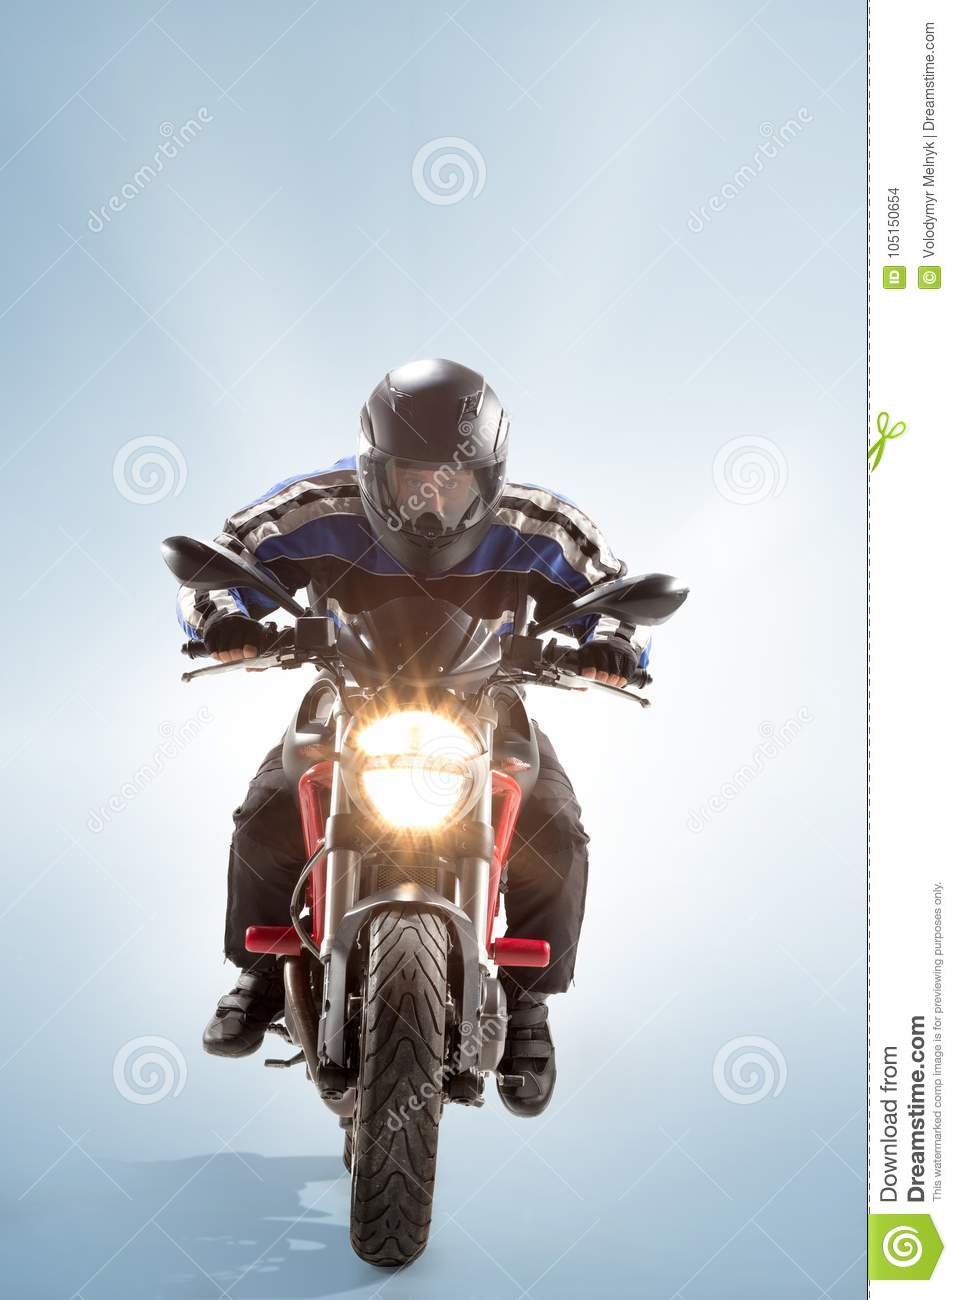helmet: (346, 351, 522, 549)
